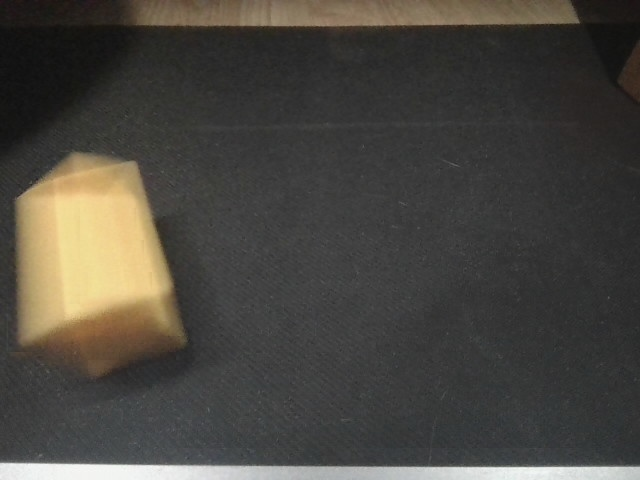YellowSample: (19, 153, 187, 384)
